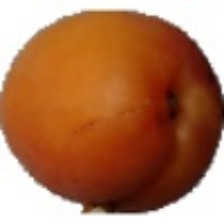apricot: (13, 24, 184, 190)
